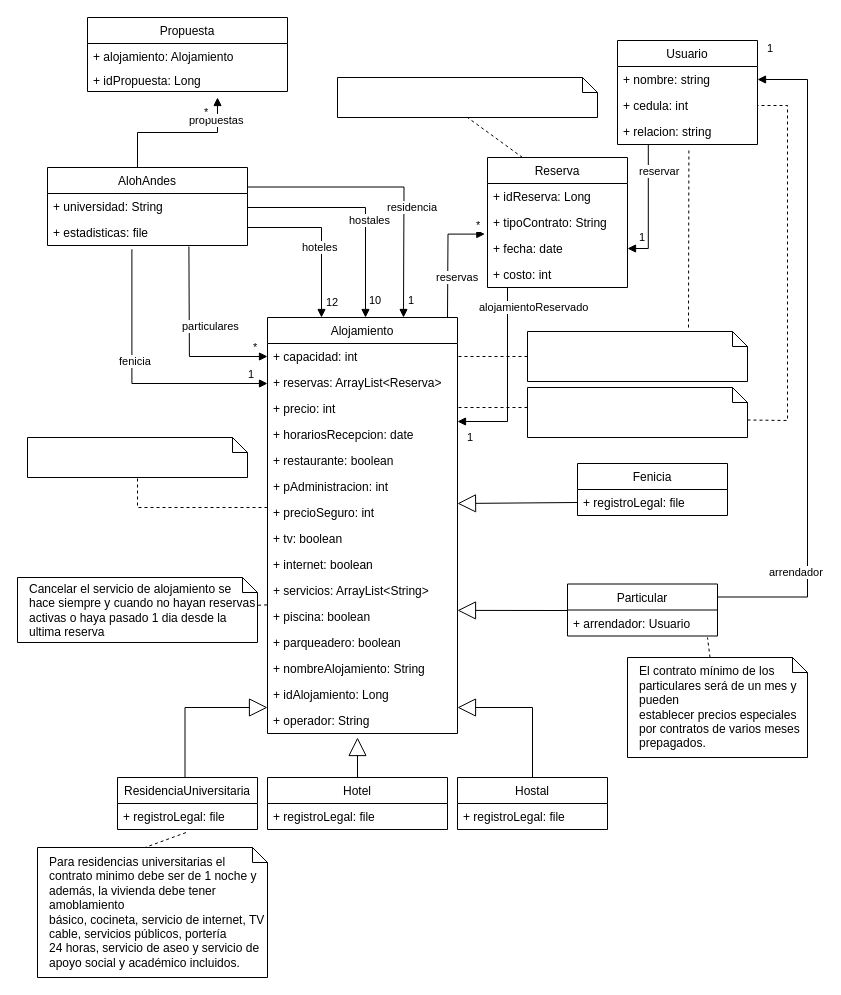
Some shapes in this 841 by 995 pixel diagram are drawn without their labels. Here are the shapes that lost their labels. From the top down, the centre of each, then its label:
At (467,97): "Cancelar una reserva tiene multa dependiendo de si supero el tiempo limite o no.".
At (637,356): "Los alojamientos y los usuarios de estos deben estar relacionados con Uniandes.".
At (637,412): "Una persona solo puede reservar un alojamiento por dia".
At (137,457): "Un alojamiento no acepta reservas que superen su capacidad".
